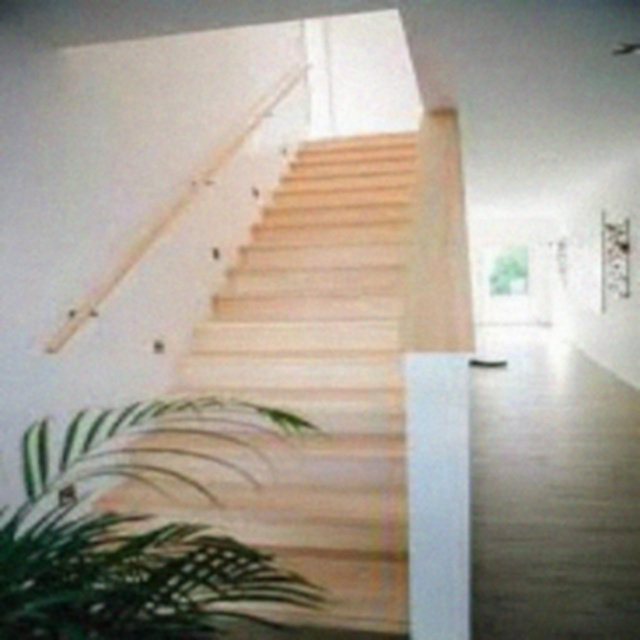stair: (52, 91, 480, 631)
